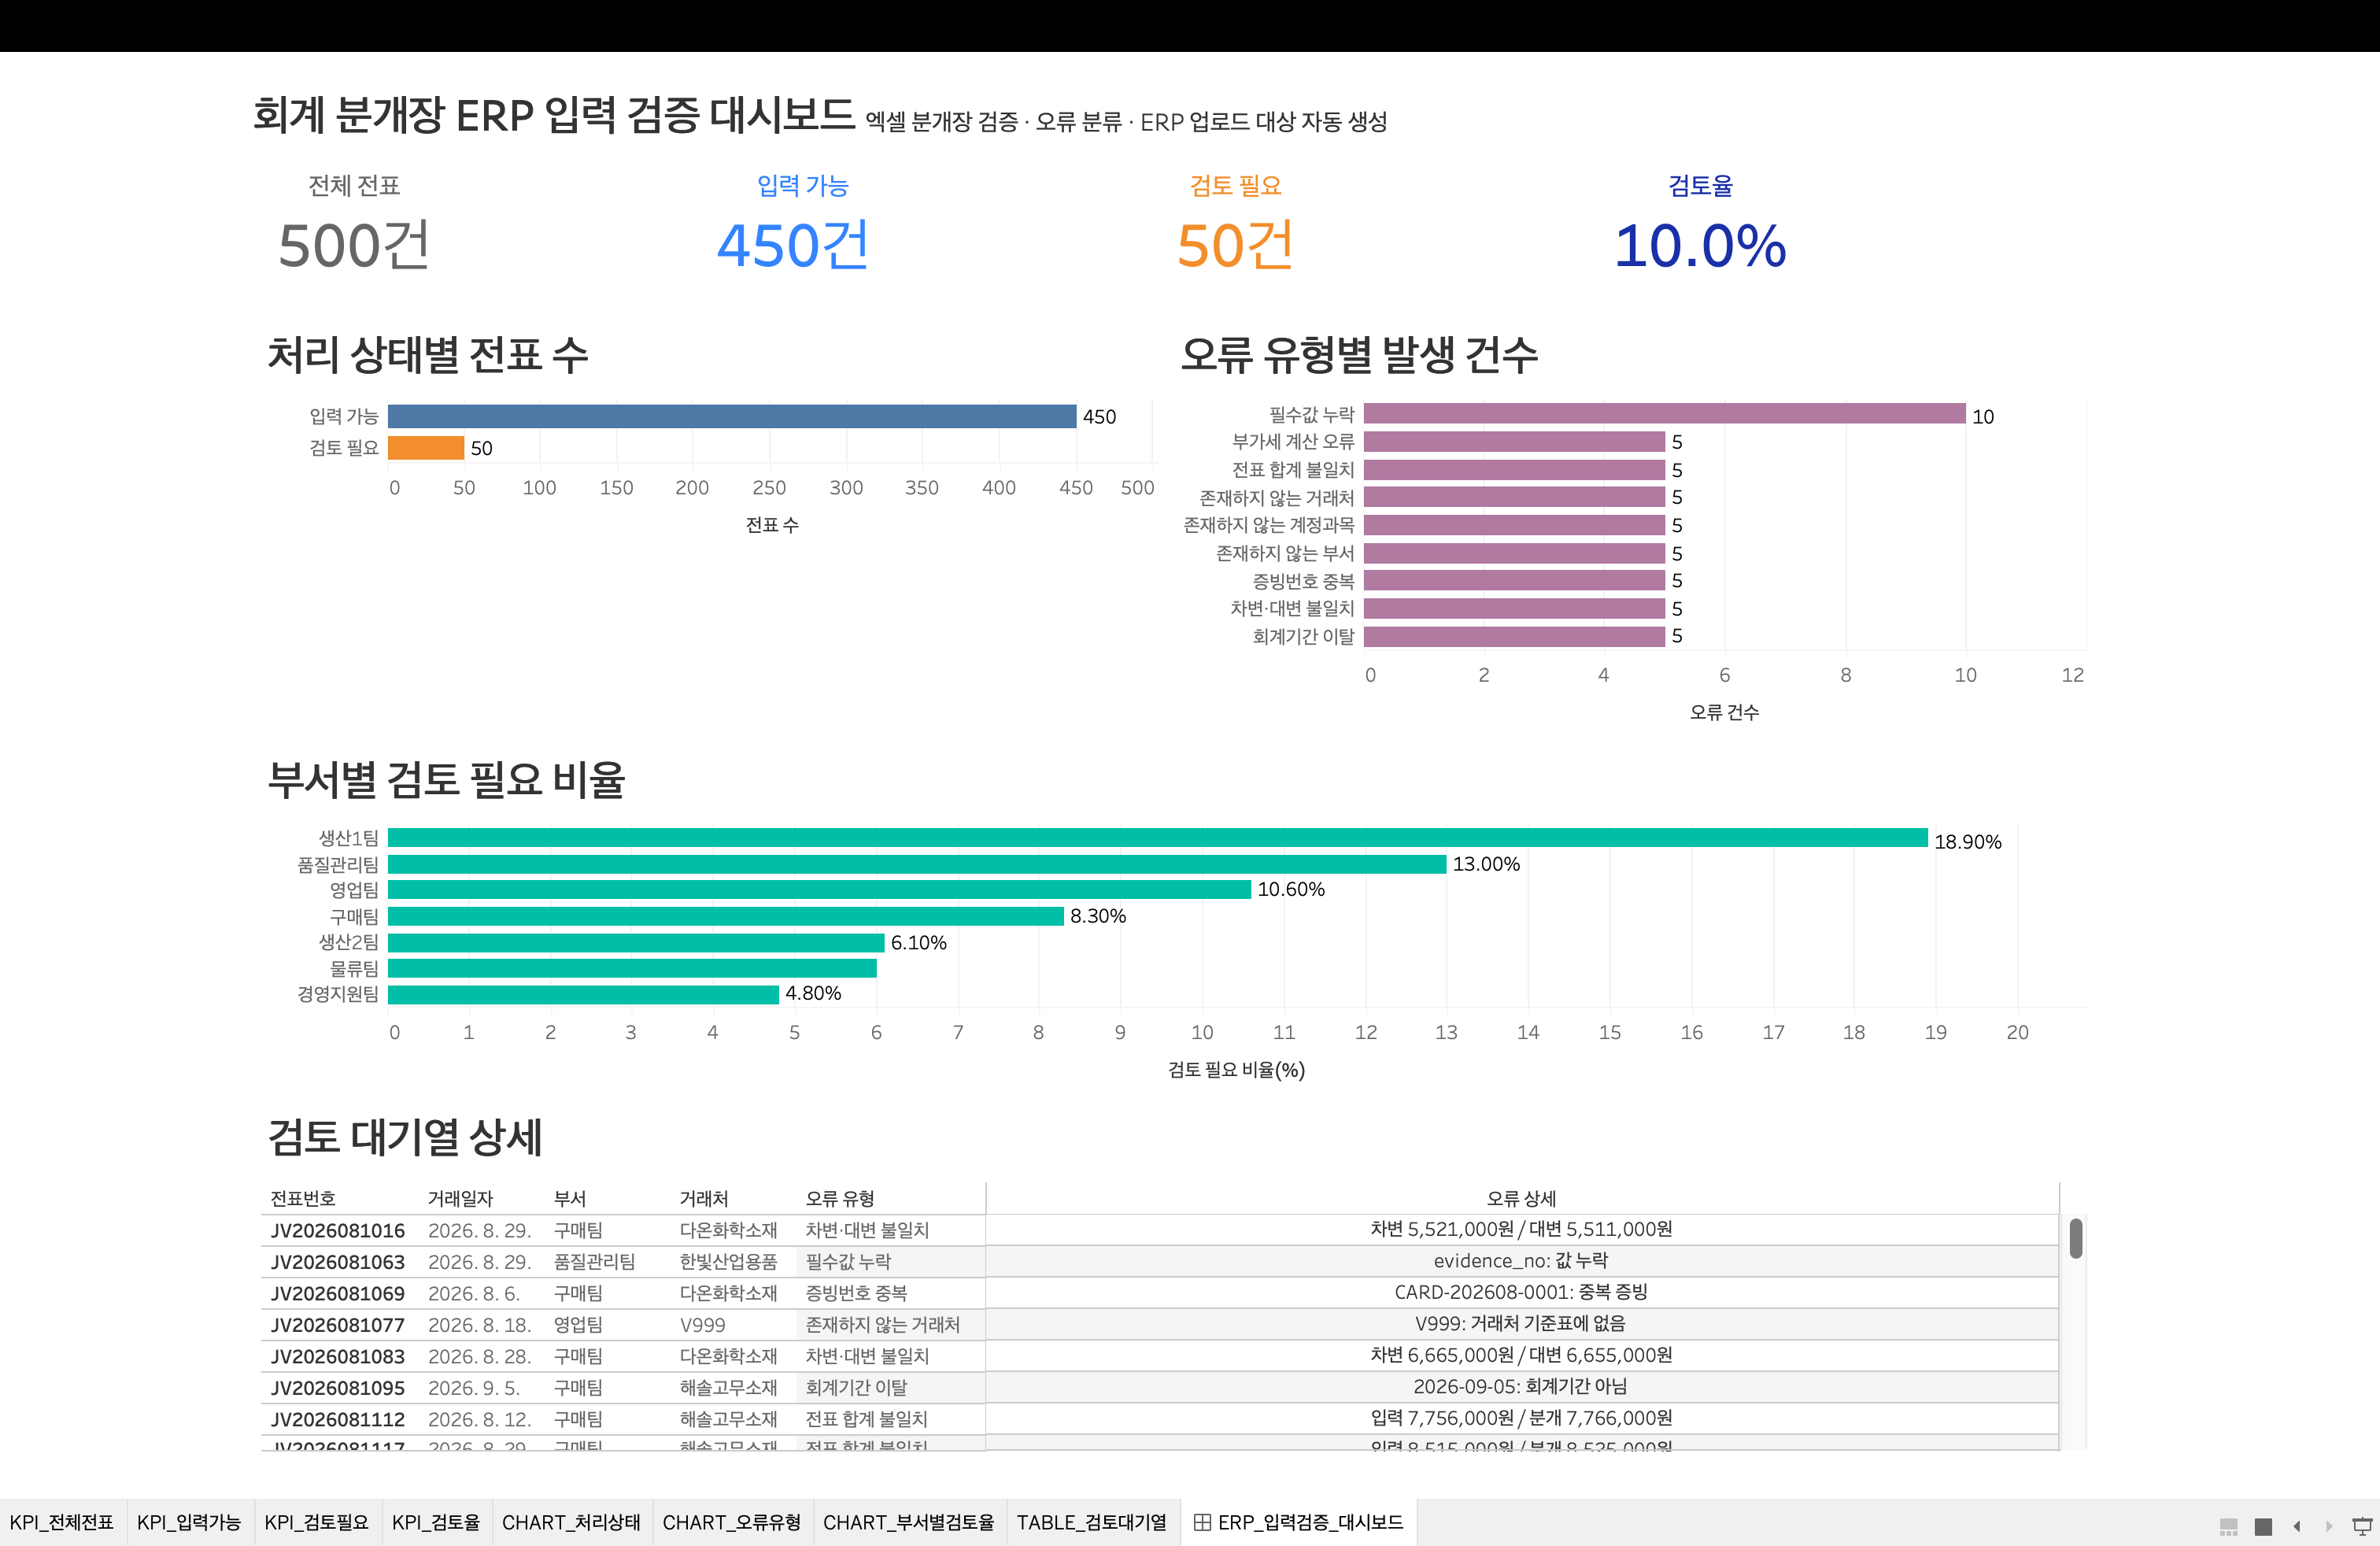

Layout of this report page (visuals, bound fields, positions):
{"tool":"tableau","page":{"name":"ERP_입력검증_대시보드","canvas":[1220,900],"ordinal":0},"visuals":[{"type":"title","box":[8,8,1204,45]},{"type":"worksheet","title":"KPI_전체전표","mark":"Automatic","box":[20,65,275,102]},{"type":"worksheet","title":"KPI_입력가능","mark":"Automatic","box":[305,65,275,100]},{"type":"worksheet","title":"KPI_검토필요","mark":"Automatic","box":[590,65,275,100]},{"type":"worksheet","title":"KPI_검토율","mark":"Automatic","box":[875,65,275,100]},{"type":"worksheet","title":"CHART_처리상태","mark":"Automatic","rows":["processing_status"],"cols":["transaction_count"],"box":[20,160,570,260]},{"type":"worksheet","title":"CHART_오류유형","mark":"Automatic","rows":["error_type"],"cols":["error_count"],"box":[600,160,580,266]},{"type":"worksheet","title":"CHART_부서별검토율","mark":"Automatic","rows":["department_name"],"cols":["review_rate"],"box":[20,430,1160,223]},{"type":"worksheet","title":"TABLE_검토대기열","mark":"Automatic","rows":["voucher_id","transaction_date","department","partner","error_type"],"cols":["Calculation_3639909389783045"],"box":[20,657,1160,223]}]}

Visuals, with their boxes on the page's 1220x900 design canvas (x1, y1, x2, y2). These are canvas units, not pixel positions in the 2380x1546 screenshot, which may show the page scaled, cropped or inside an application window:
title: Rect(8, 8, 1212, 53)
"KPI_전체전표" worksheet: Rect(20, 65, 295, 167)
"KPI_입력가능" worksheet: Rect(305, 65, 580, 165)
"KPI_검토필요" worksheet: Rect(590, 65, 865, 165)
"KPI_검토율" worksheet: Rect(875, 65, 1150, 165)
"CHART_처리상태" worksheet: Rect(20, 160, 590, 420)
"CHART_오류유형" worksheet: Rect(600, 160, 1180, 426)
"CHART_부서별검토율" worksheet: Rect(20, 430, 1180, 653)
"TABLE_검토대기열" worksheet: Rect(20, 657, 1180, 880)
